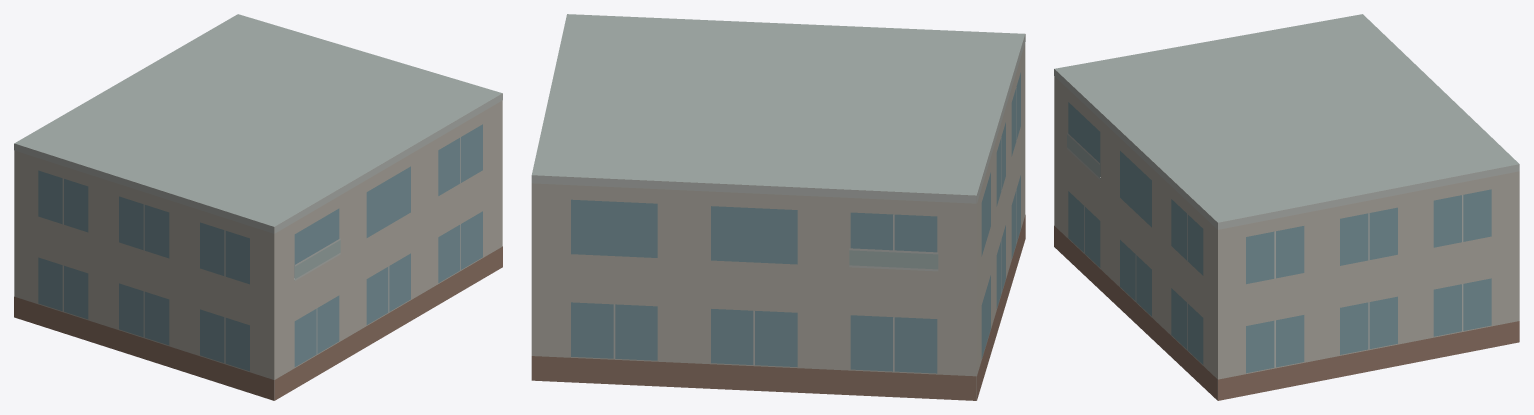
File: survey-upis-32673740.glb
The picture shows the model from 3 angles, left to right: view 1: azimuth 30°, elevation 25°; view 2: azimuth 150°, elevation 25°; view 3: azimuth 270°, elevation 25°; orthographic projection. The views are drawn at different scales.
Parts seen in each view (by area): view 1: survey-upis-32673740.tmp; view 2: survey-upis-32673740.tmp; view 3: survey-upis-32673740.tmp.
Part boxes in pixels (left/top/right/bottom): survey-upis-32673740.tmp: left=14, top=14, right=502, bottom=400; survey-upis-32673740.tmp: left=531, top=14, right=1025, bottom=400; survey-upis-32673740.tmp: left=1054, top=14, right=1519, bottom=400.
Bounding box in the file's own units: 15.34 × 6.1 × 14.46.
